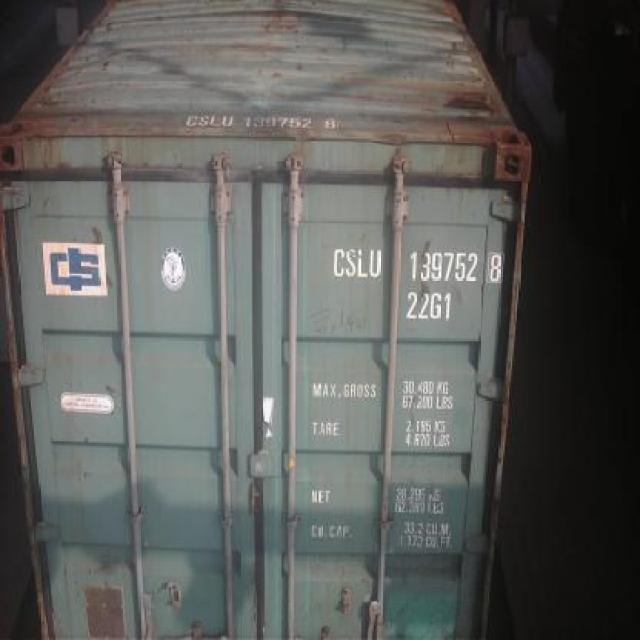ISO: (406, 289, 454, 321)
container_number: (326, 252, 502, 286)
